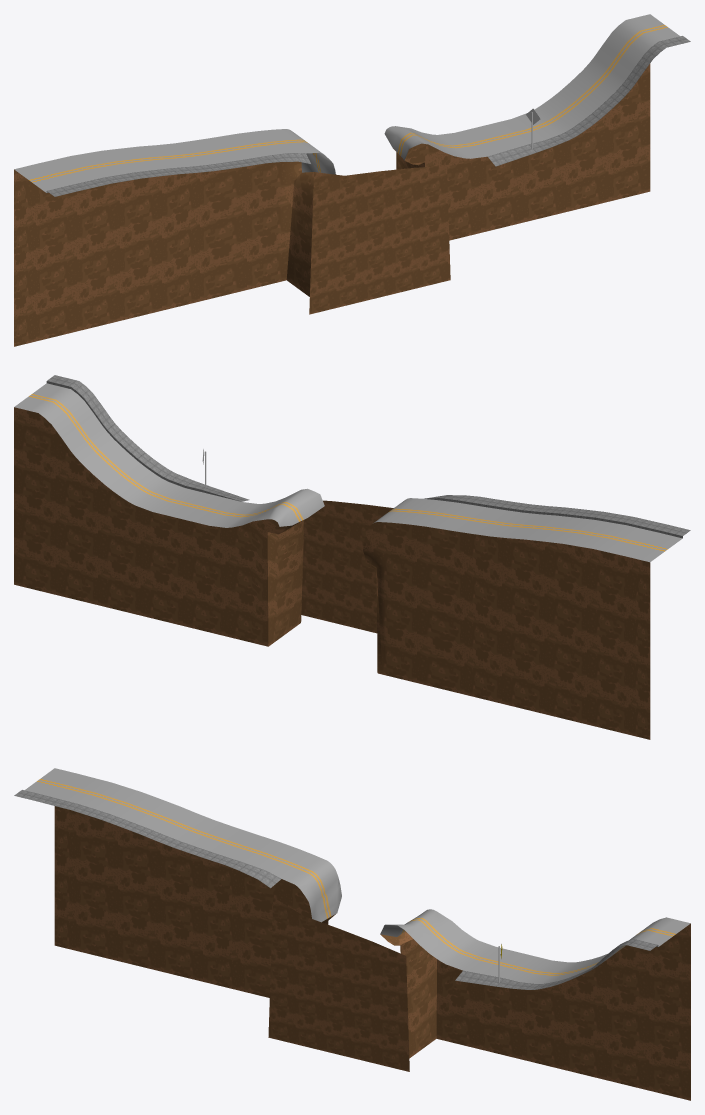
File: Terrain_02_jump_point.FBX
3 views of the same model, one above another, from view 1: azimuth 30°, elevation 25°; view 2: azimuth 150°, elevation 25°; view 3: azimuth 330°, elevation 25° (orthographic).
Visible parts, largest first — view 1: Terrain_02_ground, Terrain_02, Terrain_02_BG_ground; view 2: Terrain_02_ground, Terrain_02, Terrain_02_BG_ground; view 3: Terrain_02_ground, Terrain_02, Terrain_02_BG_ground.
Part boxes in pixels (x1=…): Terrain_02_ground: x1=14, y1=63, x2=650, y2=346; Terrain_02: x1=14, y1=14, x2=690, y2=196; Terrain_02_BG_ground: x1=309, y1=165, x2=450, y2=314; Terrain_02_ground: x1=14, y1=407, x2=650, y2=739; Terrain_02: x1=14, y1=375, x2=690, y2=562; Terrain_02_BG_ground: x1=301, y1=500, x2=393, y2=633; Terrain_02_ground: x1=54, y1=806, x2=690, y2=1100; Terrain_02: x1=14, y1=768, x2=690, y2=989; Terrain_02_BG_ground: x1=268, y1=897, x2=409, y2=1071.
Bounding box in the file's own units: 450 × 122 × 50.
